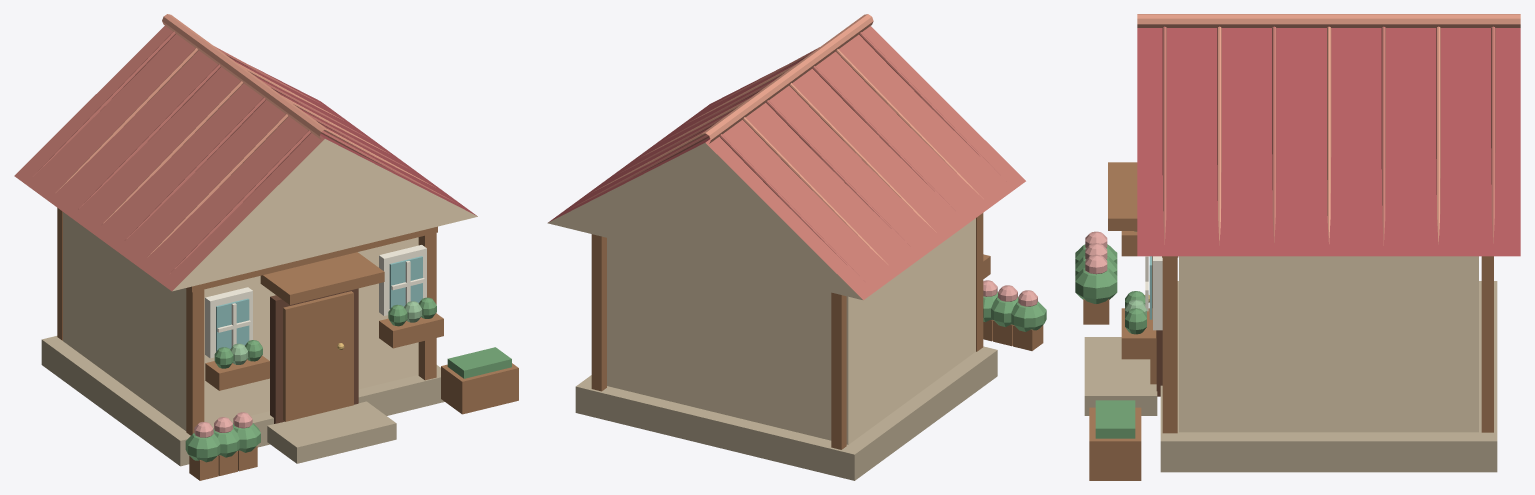
File: cow-barn.glb
3 renders of one model, left to right at view 1: azimuth 30°, elevation 25°; view 2: azimuth 150°, elevation 25°; view 3: azimuth 270°, elevation 25°, orthographic. The views are drawn at different scales.
Parts seen in each view (by area): view 1: connected-layered-roof-left, solid-cream-walls, connected-layered-roof-front-gable, stone-foundation, painted-door, porch-step, timber-awning, connected-layered-roof-right, feed-trough, front-timber-post--1.19, connected-layered-roof-ridge, central-door-frame (+20 smaller); view 2: solid-cream-walls, connected-layered-roof-left, connected-layered-roof-back-gable, stone-foundation, connected-layered-roof-right, connected-layered-roof-ridge, back-timber-post-1.19, back-timber-post--1.19, front-timber-post--1.19, potted-flowers-0-leaf, connected-layered-roof-tile--1-5, connected-layered-roof-tile--1-1 (+7 smaller); view 3: connected-layered-roof-right, solid-cream-walls, stone-foundation, connected-layered-roof-ridge, porch-step, front-timber-post-1.19, feed-trough, back-timber-post-1.19, timber-awning, hay-in-trough, potted-flowers-2-leaf, planter-0.8908000000000001 (+10 smaller).
Part boxes in pixels (box(x1,y1,x2,y2)): connected-layered-roof-left: box(14, 26, 324, 291); solid-cream-walls: box(63, 212, 418, 430); connected-layered-roof-front-gable: box(172, 139, 477, 291); stone-foundation: box(41, 336, 444, 466); painted-door: box(283, 291, 353, 421); porch-step: box(267, 401, 396, 463); timber-awning: box(260, 252, 384, 304); connected-layered-roof-right: box(231, 58, 476, 215); feed-trough: box(441, 363, 518, 414); front-timber-post--1.19: box(186, 288, 204, 435); connected-layered-roof-ridge: box(162, 14, 327, 139); central-door-frame: box(270, 288, 358, 423); solid-cream-walls: box(607, 218, 975, 444); connected-layered-roof-left: box(705, 26, 1025, 299); connected-layered-roof-back-gable: box(547, 143, 862, 299); stone-foundation: box(575, 346, 997, 480); connected-layered-roof-right: box(548, 60, 801, 222); connected-layered-roof-ridge: box(702, 14, 873, 143); back-timber-post-1.19: box(591, 234, 606, 391); back-timber-post--1.19: box(831, 292, 846, 449); front-timber-post--1.19: box(976, 213, 983, 351); potted-flowers-0-leaf: box(1011, 301, 1046, 331); connected-layered-roof-tile--1-5: box(836, 49, 983, 198); connected-layered-roof-tile--1-1: box(742, 117, 888, 264); connected-layered-roof-right: box(1137, 28, 1520, 256); solid-cream-walls: box(1179, 256, 1478, 432); stone-foundation: box(1160, 281, 1497, 472); connected-layered-roof-ridge: box(1137, 14, 1520, 27); porch-step: box(1084, 337, 1157, 415); front-timber-post-1.19: box(1162, 257, 1177, 433); feed-trough: box(1089, 407, 1141, 480); back-timber-post-1.19: box(1481, 256, 1493, 432); timber-awning: box(1108, 162, 1137, 230); hay-in-trough: box(1095, 400, 1135, 438); potted-flowers-2-leaf: box(1075, 267, 1117, 303); planter-0.8908000000000001: box(1121, 308, 1155, 359).
Bounding box in the file's own units: 3.36 × 3.04 × 3.25.
